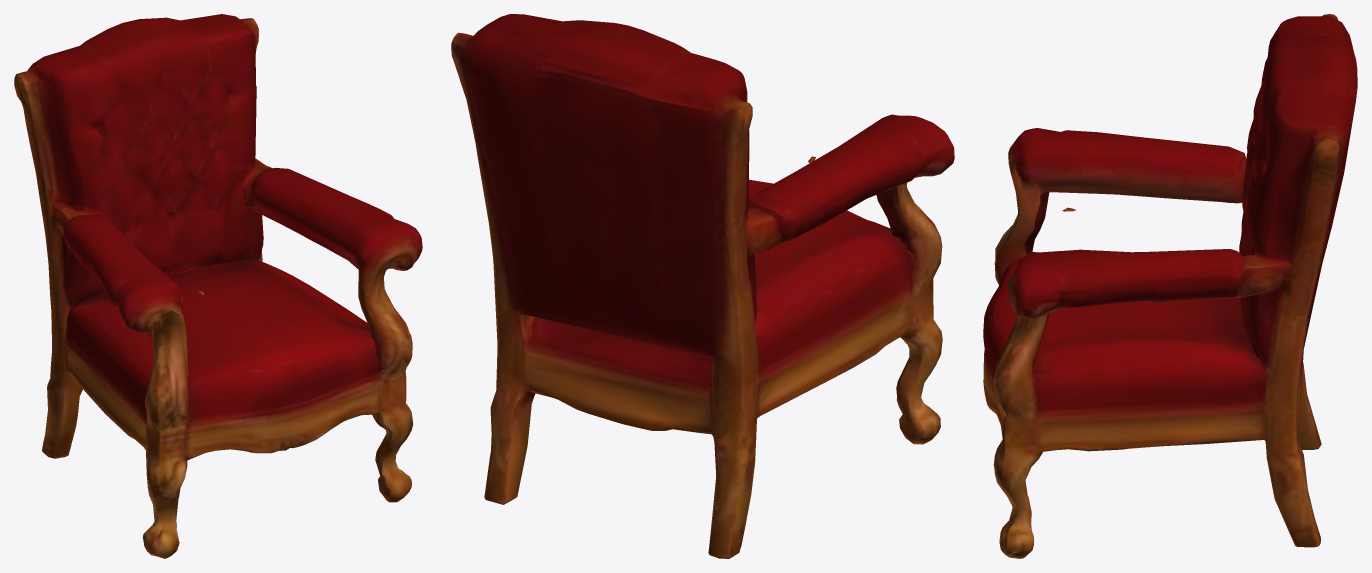
The model's file is velvet-armchair.gltf.
3 renders of one model, left to right at view 1: azimuth 30°, elevation 25°; view 2: azimuth 150°, elevation 25°; view 3: azimuth 270°, elevation 25°, orthographic. The views are drawn at different scales.
Visible parts, largest first — view 1: Sketchfab_model; view 2: Sketchfab_model; view 3: Sketchfab_model.
Part boxes in pixels (x1,y1,x2,y2): Sketchfab_model: (14, 14, 422, 558); Sketchfab_model: (451, 14, 954, 558); Sketchfab_model: (983, 14, 1357, 558).
Size of the model in its own units: 0.8175 by 1.05 by 0.8059.
1 material, 1 textured.
